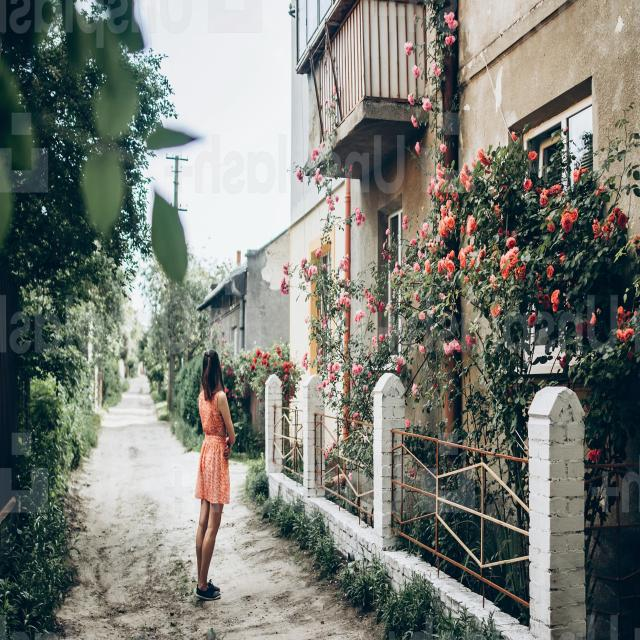adult: (195, 350, 235, 602)
